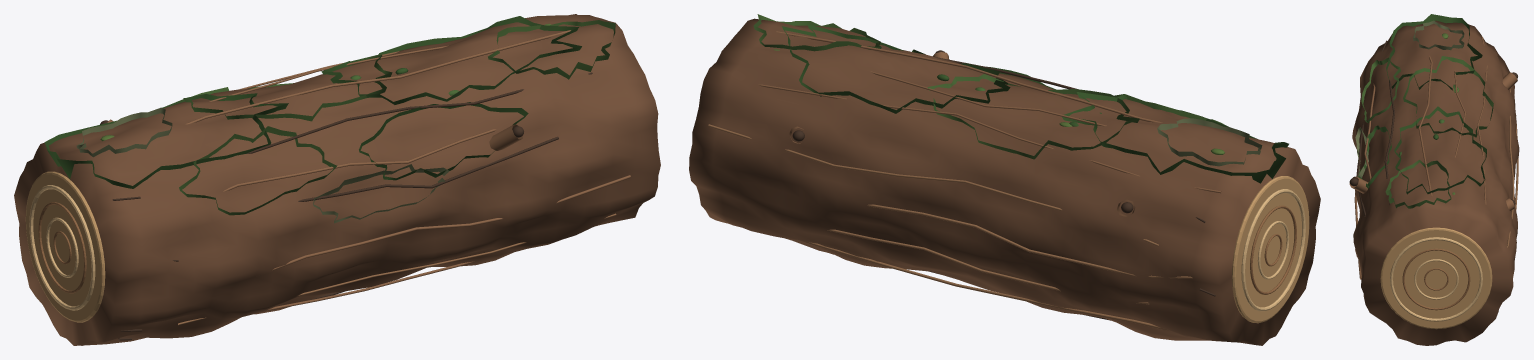
File: tronco_musgo.glb
3 views of the same model, side by side, from view 1: azimuth 30°, elevation 25°; view 2: azimuth 150°, elevation 25°; view 3: azimuth 270°, elevation 25° (orthographic). The views are drawn at different scales.
Parts seen in each view (by area): view 1: Tronco | casca escura e envelhecida, Tronco e detalhes | Cerne | madeira clara partida, Tronco e detalhes | Musgo | verde profundo, Tronco e detalhes | Casca | castanho úmido, Tronco e detalhes | Musgo | verde floresta, Tronco e detalhes | Fendas | sombra, Tronco e detalhes | Líquen | verde acinzentado, Tronco e detalhes | Cerne | anéis claros, Tronco e detalhes | Cerne | anéis escuros, Tronco e detalhes | Casca | madeira velha; view 2: Tronco | casca escura e envelhecida, Tronco e detalhes | Cerne | madeira clara partida, Tronco e detalhes | Casca | madeira velha, Tronco e detalhes | Musgo | verde profundo, Tronco e detalhes | Musgo | verde floresta, Tronco e detalhes | Casca | castanho úmido, Tronco e detalhes | Cerne | anéis claros, Tronco e detalhes | Líquen | verde acinzentado, Tronco e detalhes | Cerne | anéis escuros, Tronco e detalhes | Fendas | sombra; view 3: Tronco | casca escura e envelhecida, Tronco e detalhes | Cerne | madeira clara partida, Tronco e detalhes | Musgo | verde profundo, Tronco e detalhes | Musgo | verde floresta, Tronco e detalhes | Casca | castanho úmido, Tronco e detalhes | Cerne | anéis claros, Tronco e detalhes | Líquen | verde acinzentado, Tronco e detalhes | Cerne | anéis escuros, Tronco e detalhes | Fendas | sombra, Tronco e detalhes | Casca | madeira velha.
Boxes of the visible parts, box(x1,y1,x2,y2) form: Tronco | casca escura e envelhecida: box(14, 14, 660, 345); Tronco e detalhes | Cerne | madeira clara partida: box(25, 171, 105, 322); Tronco e detalhes | Musgo | verde profundo: box(44, 16, 581, 188); Tronco e detalhes | Casca | castanho úmido: box(107, 28, 630, 311); Tronco e detalhes | Musgo | verde floresta: box(179, 20, 615, 215); Tronco e detalhes | Fendas | sombra: box(81, 72, 592, 345); Tronco e detalhes | Líquen | verde acinzentado: box(76, 107, 449, 223); Tronco e detalhes | Cerne | anéis claros: box(29, 185, 95, 310); Tronco e detalhes | Cerne | anéis escuros: box(38, 202, 86, 293); Tronco e detalhes | Casca | madeira velha: box(178, 213, 616, 324); Tronco | casca escura e envelhecida: box(689, 18, 1320, 345); Tronco e detalhes | Cerne | madeira clara partida: box(1232, 176, 1309, 323); Tronco e detalhes | Casca | madeira velha: box(708, 124, 1192, 331); Tronco e detalhes | Musgo | verde profundo: box(782, 24, 1288, 183); Tronco e detalhes | Musgo | verde floresta: box(753, 14, 1226, 159); Tronco e detalhes | Casca | castanho úmido: box(758, 31, 1221, 216); Tronco e detalhes | Cerne | anéis claros: box(1241, 189, 1305, 311); Tronco e detalhes | Líquen | verde acinzentado: box(1157, 118, 1262, 166); Tronco e detalhes | Cerne | anéis escuros: box(1250, 205, 1296, 294); Tronco e detalhes | Fendas | sombra: box(792, 50, 1215, 320); Tronco | casca escura e envelhecida: box(1352, 20, 1519, 345); Tronco e detalhes | Cerne | madeira clara partida: box(1380, 227, 1492, 329); Tronco e detalhes | Musgo | verde profundo: box(1358, 14, 1486, 194); Tronco e detalhes | Musgo | verde floresta: box(1361, 56, 1493, 208); Tronco e detalhes | Casca | castanho úmido: box(1349, 36, 1517, 279); Tronco e detalhes | Cerne | anéis claros: box(1390, 237, 1482, 321); Tronco e detalhes | Líquen | verde acinzentado: box(1355, 20, 1464, 177); Tronco e detalhes | Cerne | anéis escuros: box(1402, 248, 1470, 310); Tronco e detalhes | Fendas | sombra: box(1349, 40, 1517, 216); Tronco e detalhes | Casca | madeira velha: box(1507, 89, 1518, 247).
Size of the model in its own units: 1.82 by 0.6628 by 0.6614.
